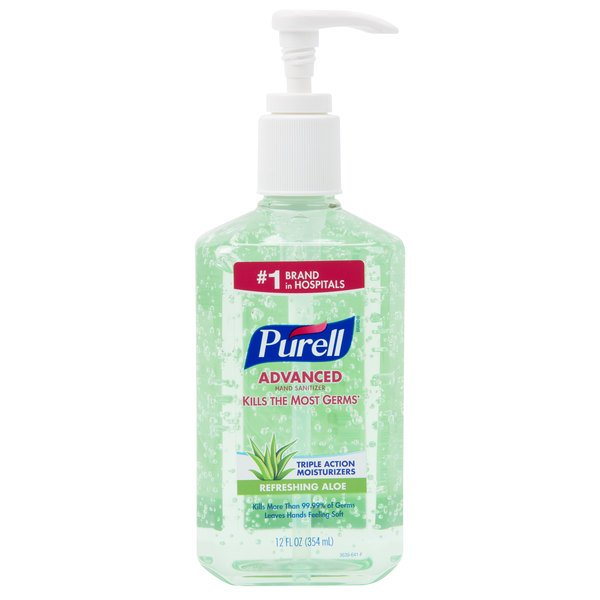Sanitizer: (192, 5, 411, 592)
